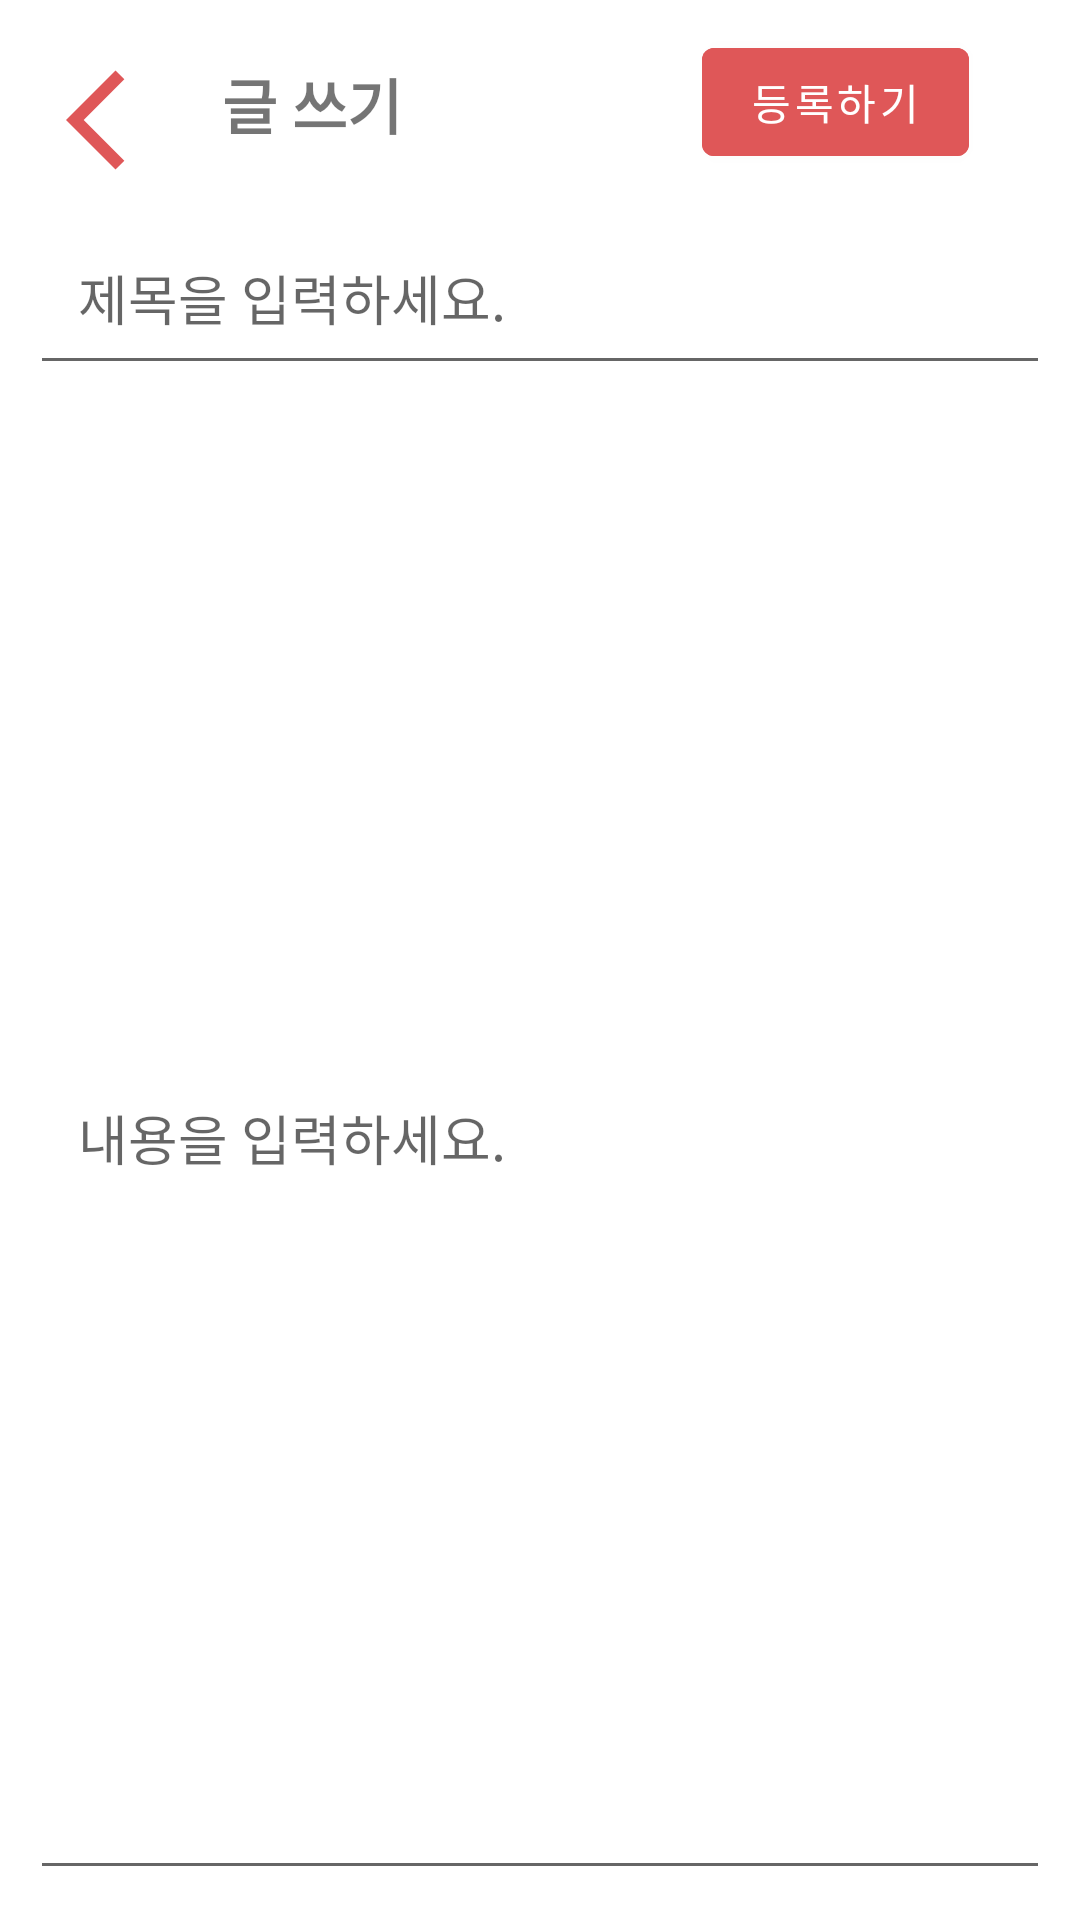

Icons on this 1080x1920 Android screen, each with the point to tap as (x=x, y=y):
arrow back: (x=95, y=120)
